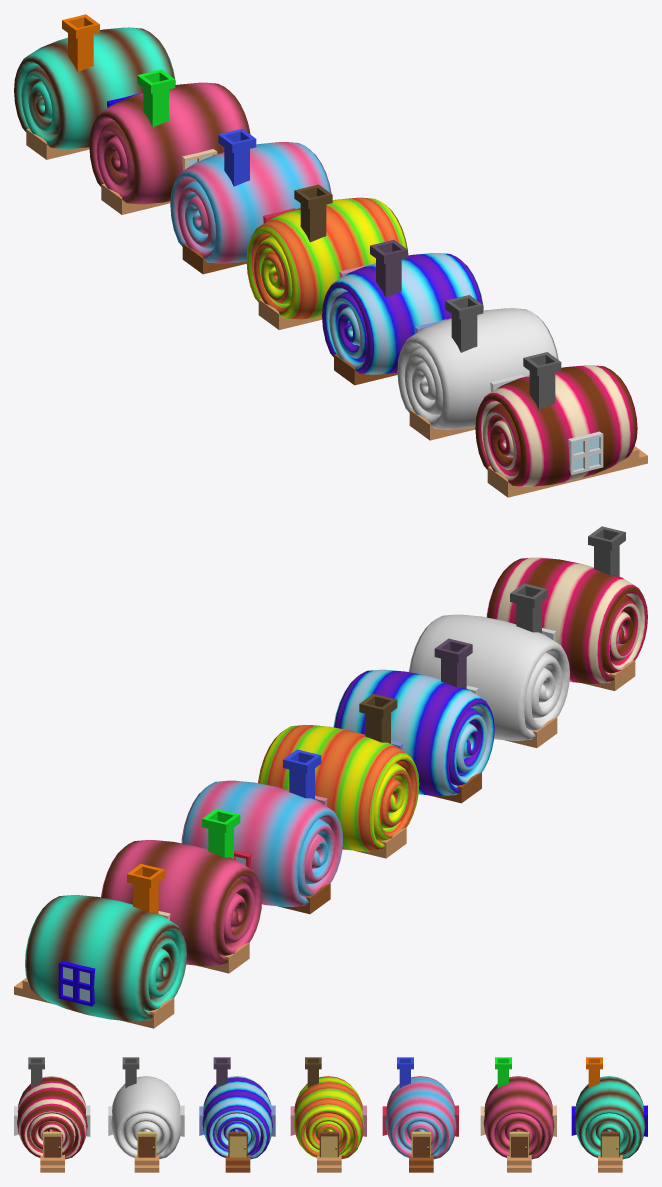
Rendered from Pirulilo house.fbx.
The picture shows the model from 3 angles, top to bottom: view 1: azimuth 30°, elevation 25°; view 2: azimuth 150°, elevation 25°; view 3: azimuth 270°, elevation 25°; orthographic projection. The views are drawn at different scales.
Parts seen in each view (by area): view 1: Pirulito.006, Pirulito.004, Pirulito, Pirulito.003, Pirulito.002, Pirulito.001, Pirulito.005, Janela.014; view 2: Pirulito.005, Pirulito.003, Pirulito.006, Pirulito.002, Pirulito.001, Pirulito, Pirulito.004, Janela.011; view 3: Pirulito.001, Pirulito, Pirulito.003, Pirulito.002, Pirulito.004, Pirulito.005, Pirulito.006.
Part boxes in pixels (x1=…): Pirulito.006: x1=475, y1=352, x2=647, y2=497; Pirulito.004: x1=89, y1=69, x2=250, y2=214; Pirulito: x1=397, y1=295, x2=558, y2=440; Pirulito.003: x1=170, y1=128, x2=331, y2=274; Pirulito.002: x1=246, y1=184, x2=408, y2=329; Pirulito.001: x1=322, y1=240, x2=483, y2=385; Pirulito.005: x1=14, y1=14, x2=175, y2=159; Janela.014: x1=568, y1=431, x2=603, y2=475; Pirulito.005: x1=14, y1=864, x2=186, y2=1028; Pirulito.003: x1=181, y1=749, x2=342, y2=914; Pirulito.006: x1=486, y1=526, x2=647, y2=690; Pirulito.002: x1=258, y1=693, x2=419, y2=858; Pirulito.001: x1=333, y1=638, x2=494, y2=803; Pirulito: x1=408, y1=583, x2=569, y2=747; Pirulito.004: x1=101, y1=808, x2=262, y2=973; Janela.011: x1=58, y1=961, x2=95, y2=1006; Pirulito.001: x1=202, y1=1057, x2=272, y2=1172; Pirulito: x1=111, y1=1057, x2=181, y2=1172; Pirulito.003: x1=385, y1=1057, x2=456, y2=1172; Pirulito.002: x1=293, y1=1057, x2=364, y2=1172; Pirulito.004: x1=483, y1=1057, x2=554, y2=1172; Pirulito.005: x1=574, y1=1057, x2=645, y2=1172; Pirulito.006: x1=17, y1=1057, x2=87, y2=1172.
Size of the model in its own units: 630 by 569 by 4083.
